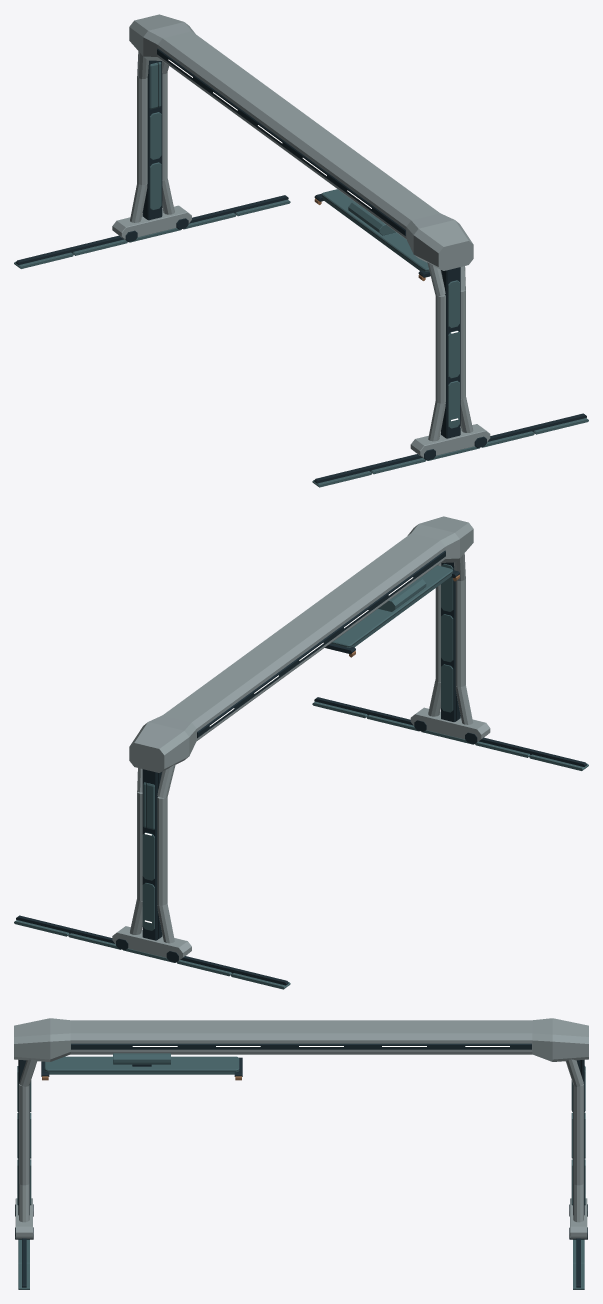
File: SF-01_capture_bridge.glb
The picture shows the model from 3 angles, top to bottom: view 1: azimuth 30°, elevation 25°; view 2: azimuth 150°, elevation 25°; view 3: azimuth 270°, elevation 25°; orthographic projection. The views are drawn at different scales.
Parts seen in each view (by area): view 1: SF-01_capture_bridge; view 2: SF-01_capture_bridge; view 3: SF-01_capture_bridge.
Part boxes in pixels (x1,y1,x2,y2): SF-01_capture_bridge: (14, 14, 588, 487); SF-01_capture_bridge: (14, 516, 588, 989); SF-01_capture_bridge: (14, 1018, 588, 1289).
Size of the model in its own units: 17.46 by 13.45 by 34.6.
